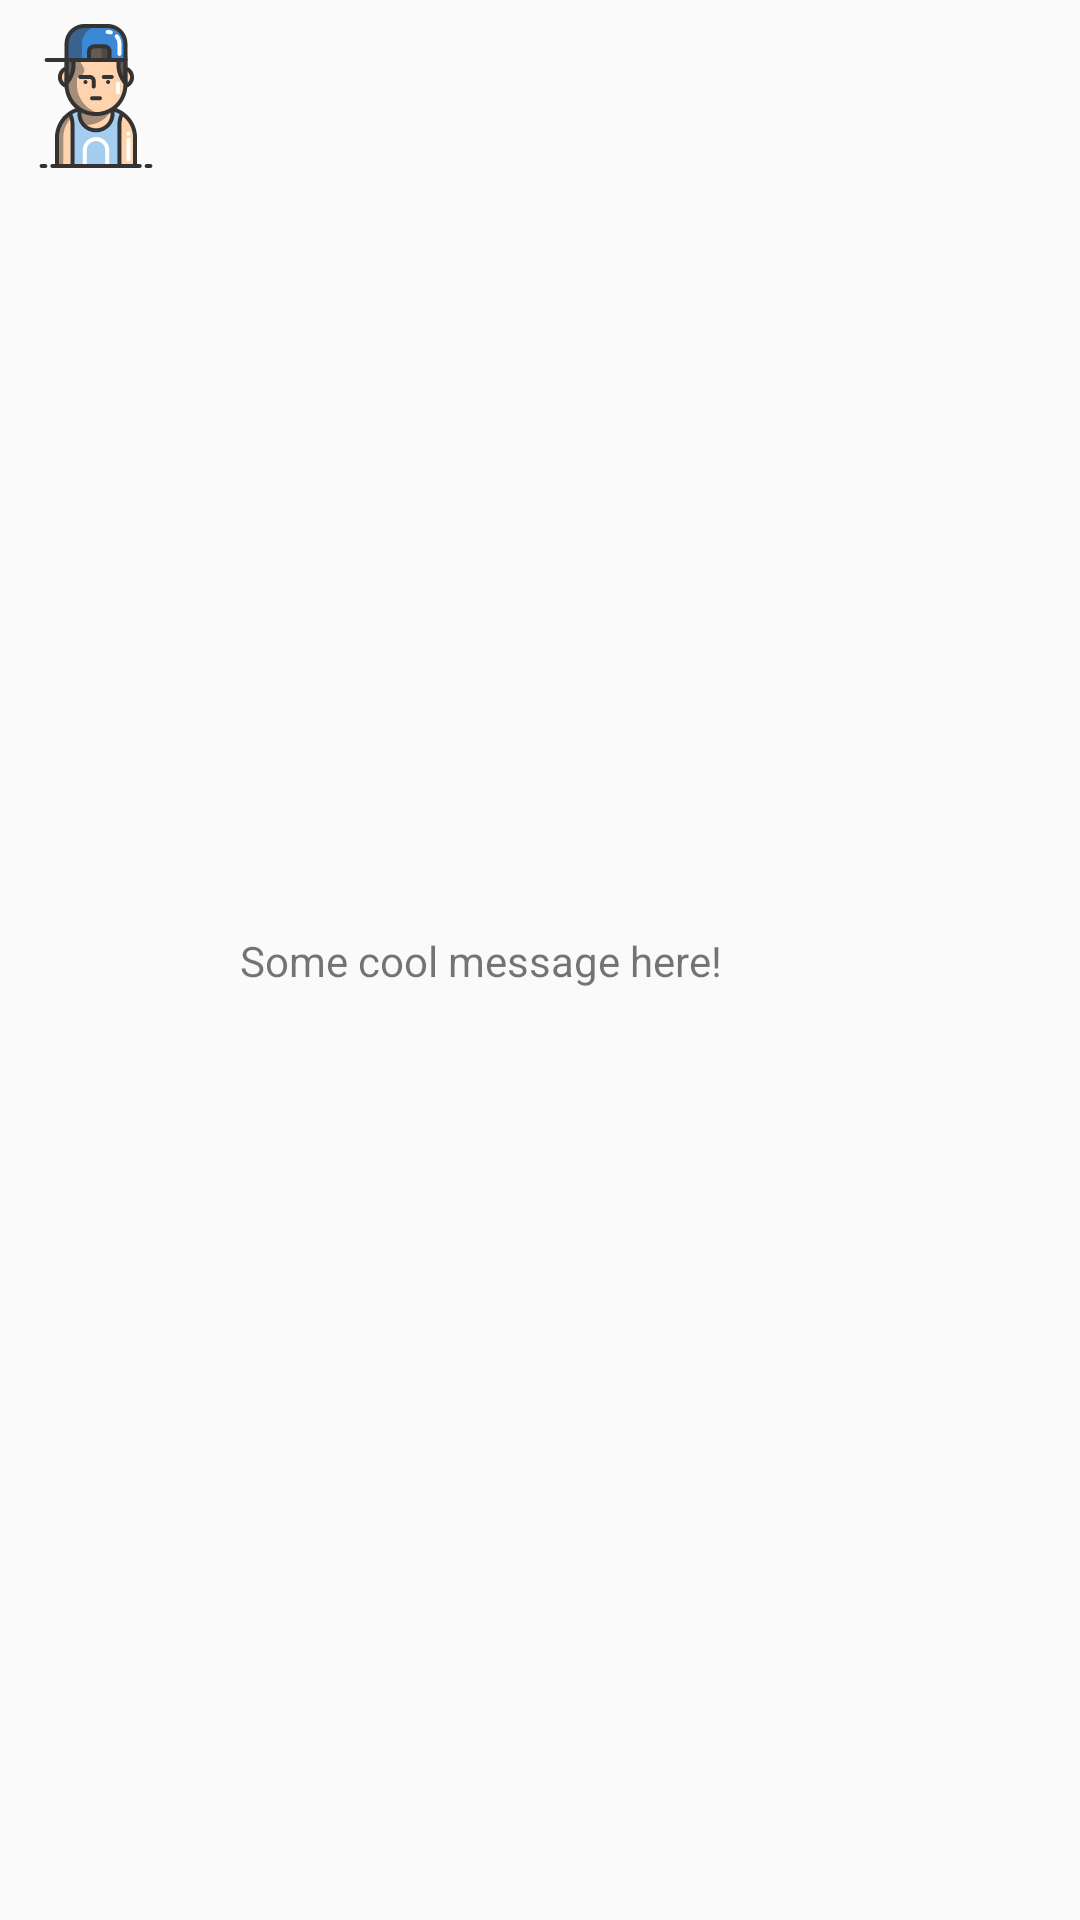

Icons on this 1080px x 1920px Android screen, each with its box as (x1, y1, x2, y2):
boy casual: (39, 24, 153, 168)
